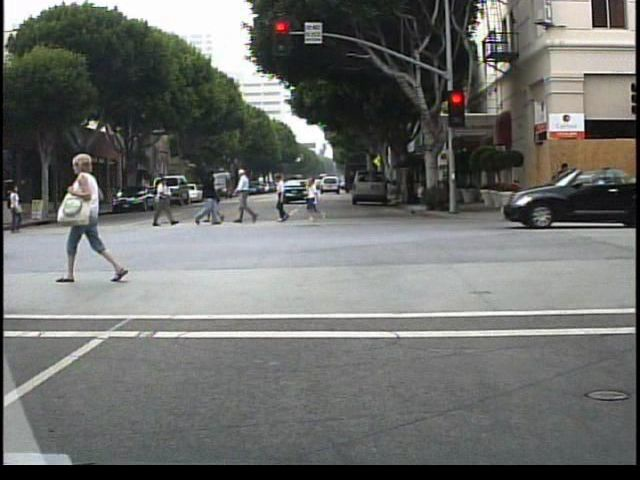person: (64, 149, 121, 286), (194, 165, 225, 230), (233, 166, 263, 227), (149, 172, 173, 229), (550, 155, 573, 213), (4, 181, 28, 236), (274, 172, 297, 226), (17, 193, 42, 239)
